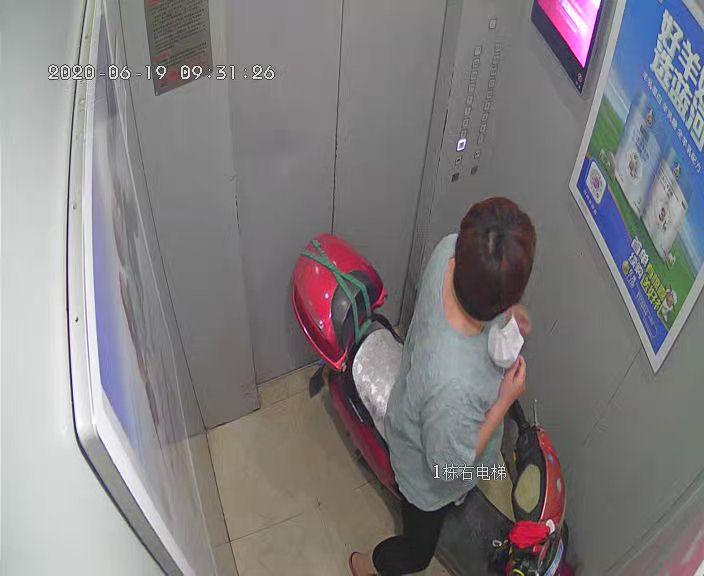Electric-bicycle: (289, 235, 564, 573)
